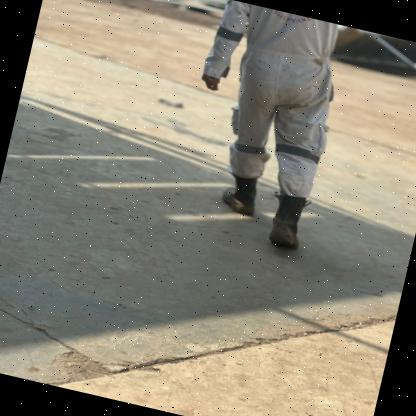bota: (264, 190, 318, 256), (212, 168, 270, 219)
